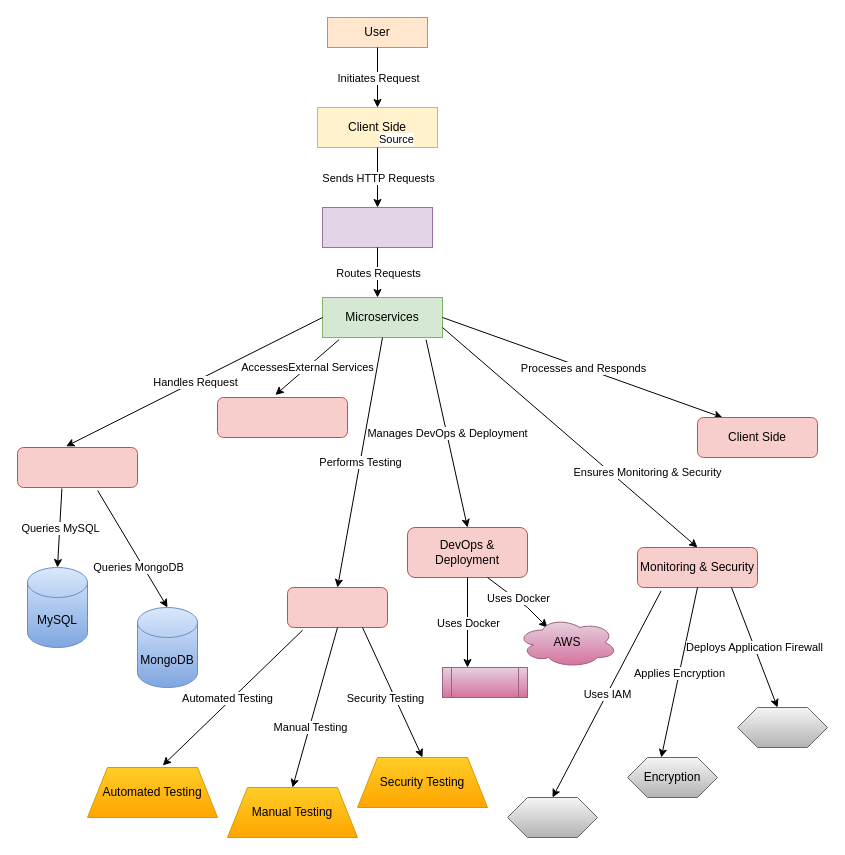
This 845x855 diagram has some shape labels left out. Each missing label, with the centre of its shape:
"API Gateway" goes at (377,227).
"Application Firewall" goes at (782,727).
"Database Operations" goes at (77,467).
"Docker" goes at (485,682).
"External Services" goes at (282,417).
"IAM" goes at (552,817).
"Testing" goes at (337,607).
